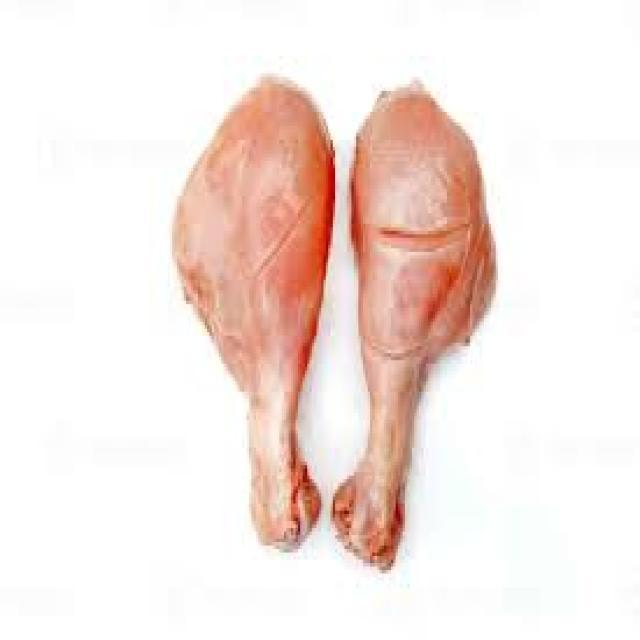leg: (164, 78, 337, 546), (346, 87, 492, 582)
